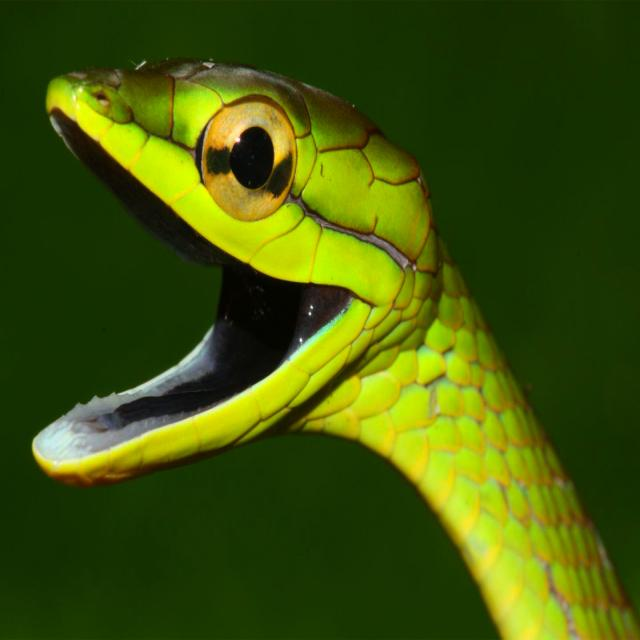snake: (33, 60, 640, 639)
